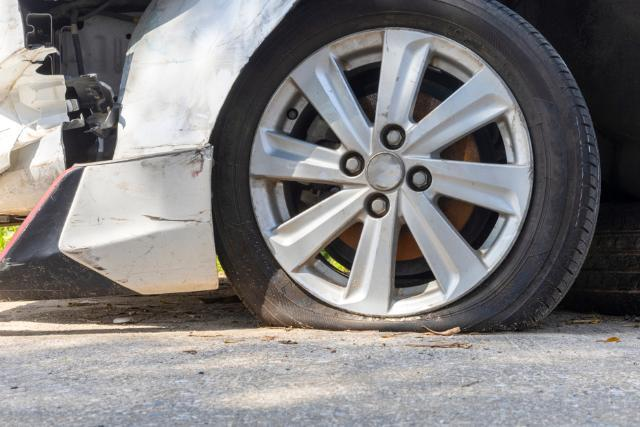Bumper: (0, 1, 224, 311)
